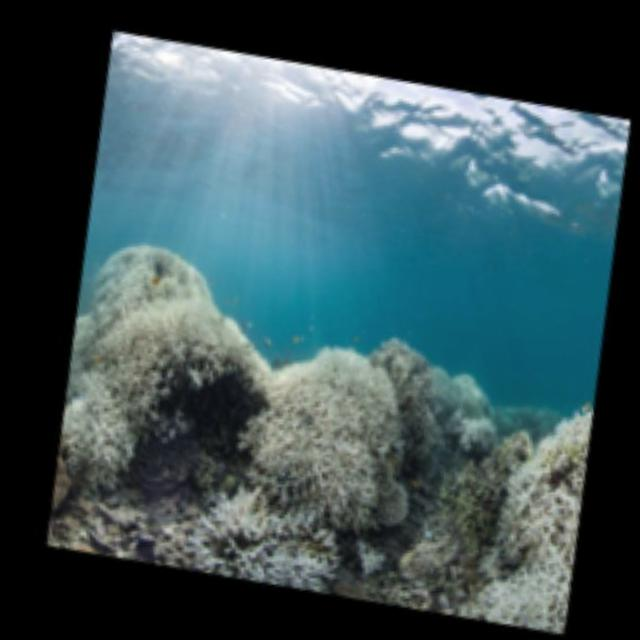Dead Coral: (118, 276, 502, 599), (5, 206, 330, 522), (346, 330, 640, 640)
